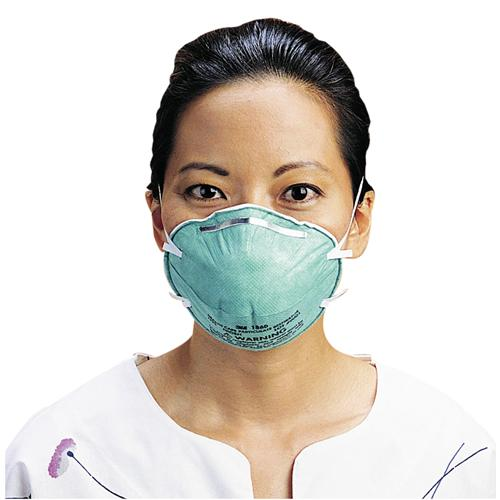n95: (151, 202, 356, 352)
